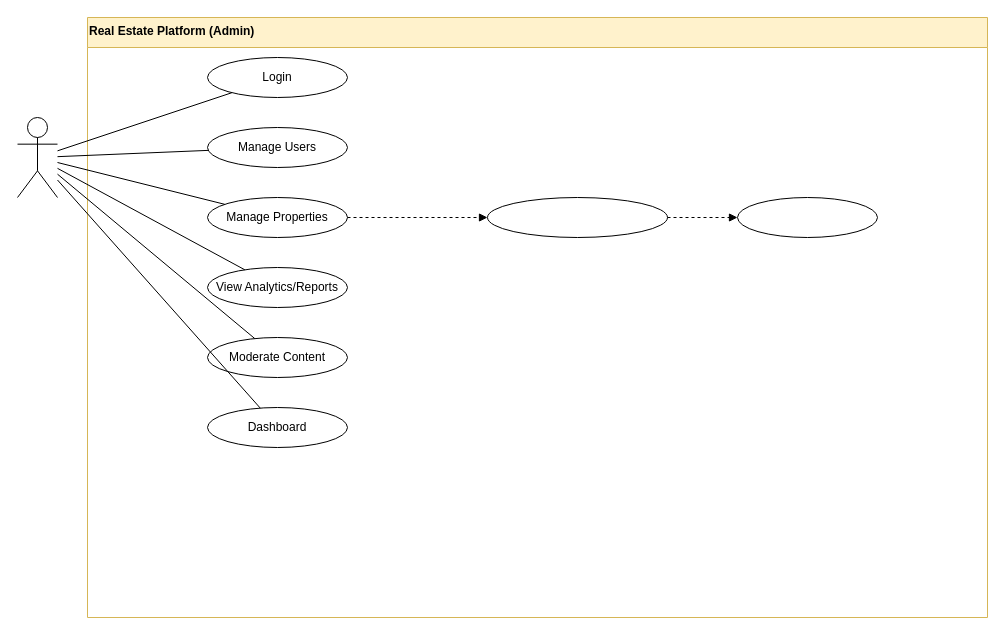
Image size: 1005x635. Some labels were removed from this diagram. The shapes that lost their labels are listed below. From the top down, each one's box as (x1, y1, x2, y2) in pixels, then its label:
(16, 116, 58, 198): Admin
(486, 196, 668, 238): Approve/Reject/Edit Property
(736, 196, 878, 238): Update Database
